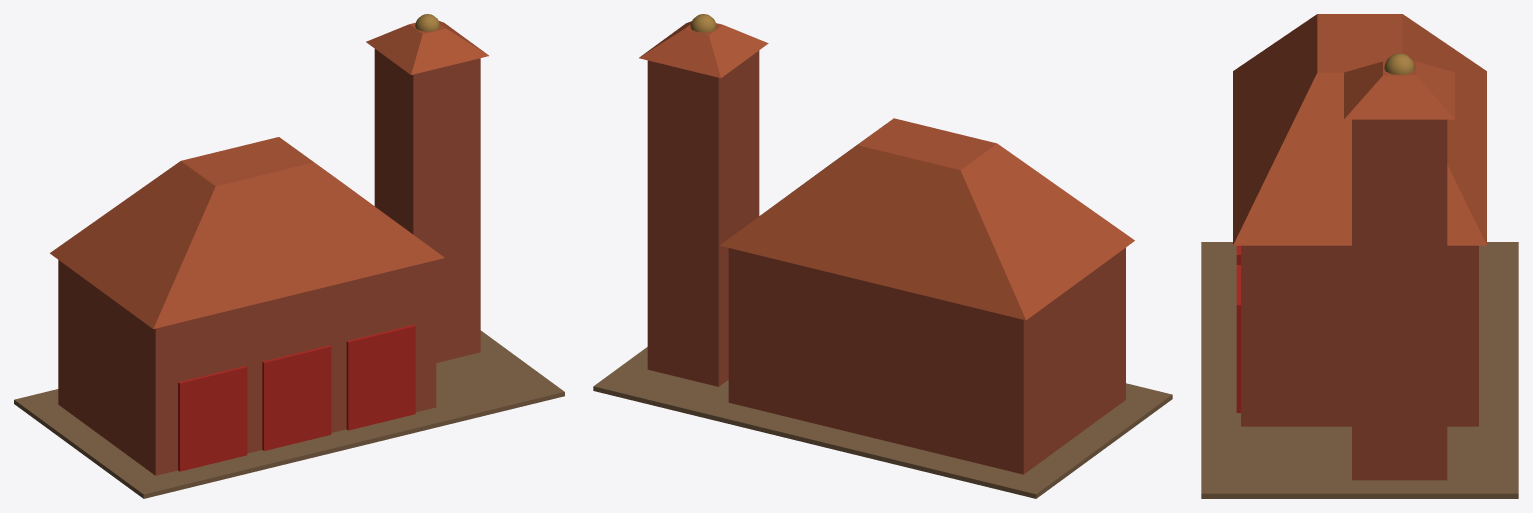
File: bld_special_fire_station_a04.glb
3 renders of one model, left to right at view 1: azimuth 30°, elevation 25°; view 2: azimuth 150°, elevation 25°; view 3: azimuth 270°, elevation 25°, orthographic. The views are drawn at different scales.
Visible parts, largest first — view 1: body; view 2: body; view 3: body.
Boxes of the visible parts, x1=… form: body: x1=14, y1=14, x2=564, y2=498; body: x1=593, y1=14, x2=1172, y2=498; body: x1=1201, y1=14, x2=1518, y2=498.
Size of what is drawn, in the model's own units: 15 by 11.42 by 8.
